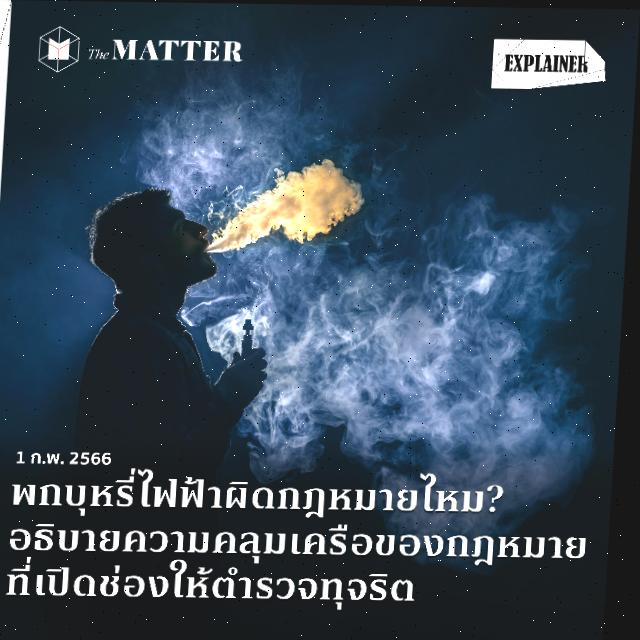vape: (244, 318, 258, 358)
